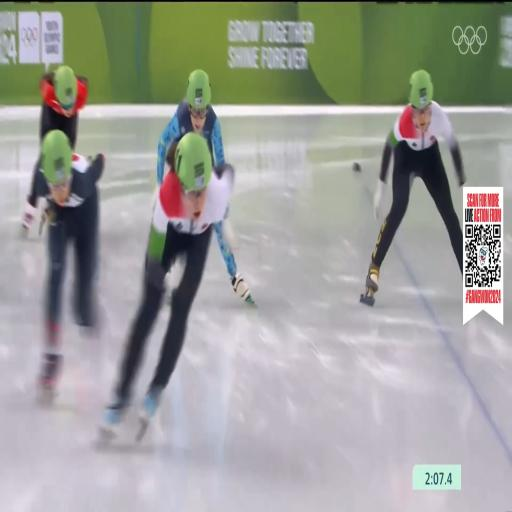Skater: (101, 132, 234, 438), (361, 70, 465, 305), (35, 130, 104, 398), (156, 70, 224, 193), (40, 65, 87, 149)
